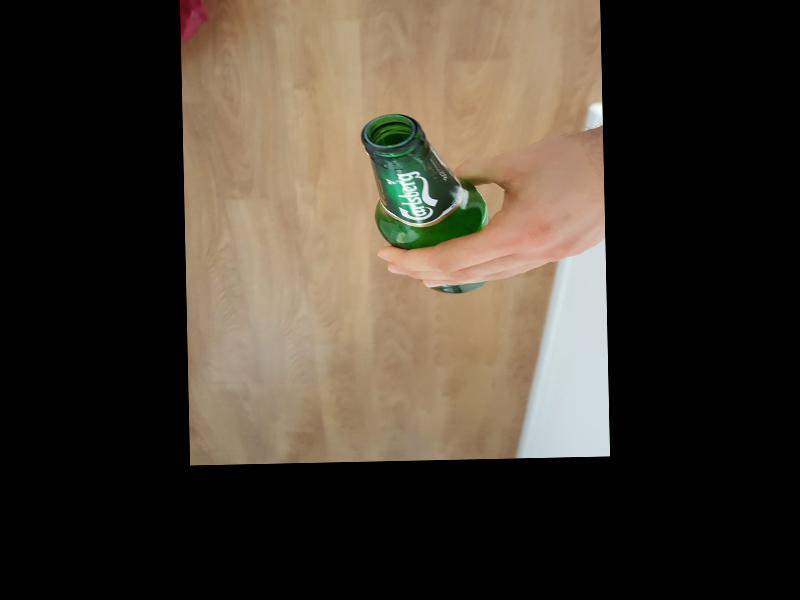Beer: (359, 112, 489, 295)
